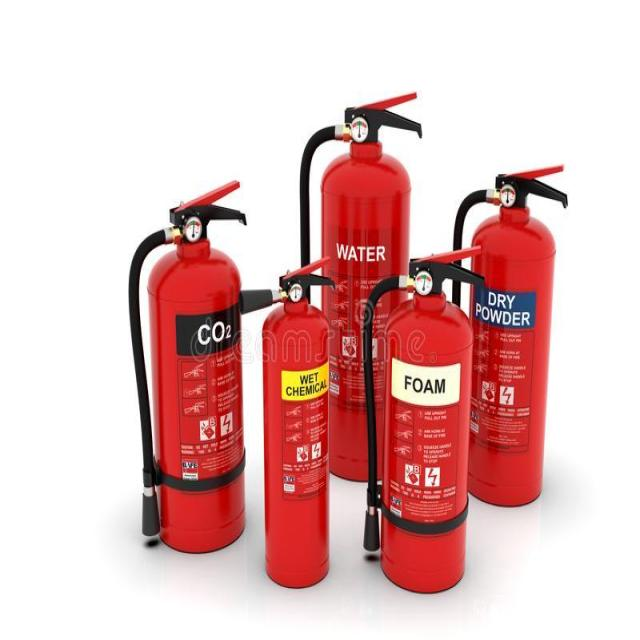fire_extinguisher: (298, 85, 427, 483), (123, 172, 252, 560), (360, 241, 488, 600), (443, 157, 569, 509), (227, 247, 340, 589)
